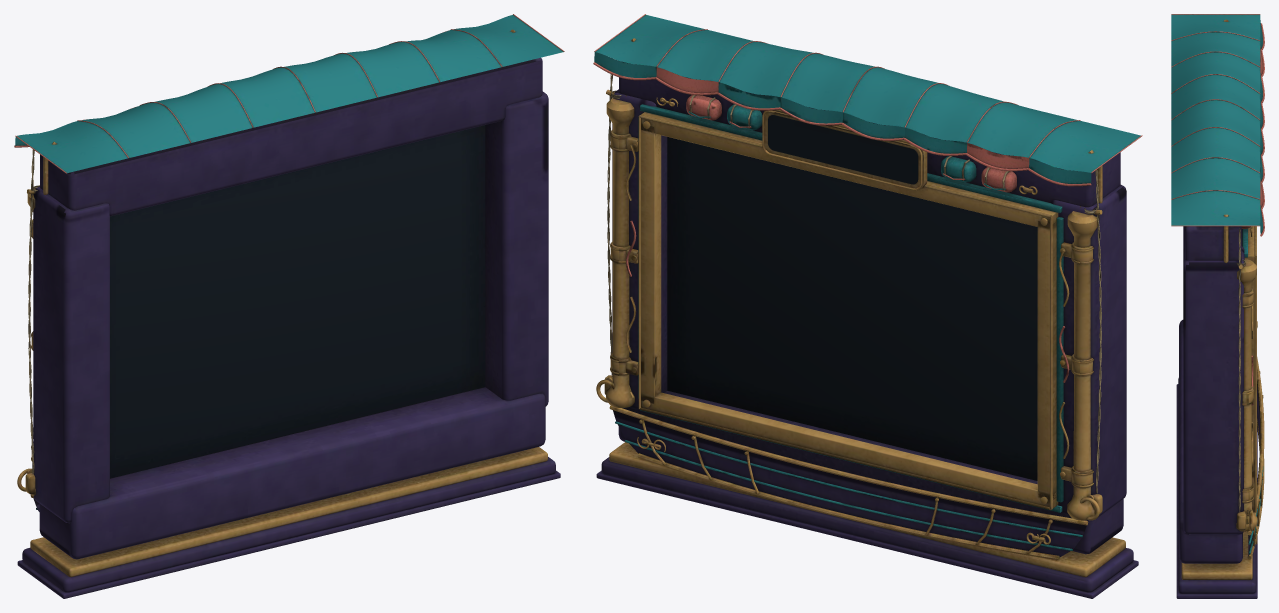
The picture shows the model from 3 angles, left to right: view 1: azimuth 30°, elevation 25°; view 2: azimuth 150°, elevation 25°; view 3: azimuth 270°, elevation 25°; orthographic projection. The views are drawn at different scales.
Visible parts, largest first — view 1: Violet_hull_enamel, Ink_recess, Teal_woven_canvas, Brushed_lock_brass, Coral_woven_binding, Natural_rope; view 2: Ink_recess, Violet_hull_enamel, Brushed_lock_brass, Teal_woven_canvas, Coral_woven_binding, Natural_rope; view 3: Violet_hull_enamel, Teal_woven_canvas, Brushed_lock_brass, Coral_woven_binding, Natural_rope.
Part boxes in pixels (x1=…): Violet_hull_enamel: x1=17, y1=57, x2=560, y2=598; Ink_recess: x1=110, y1=125, x2=485, y2=478; Teal_woven_canvas: x1=15, y1=15, x2=563, y2=509; Brushed_lock_brass: x1=17, y1=29, x2=547, y2=577; Coral_woven_binding: x1=14, y1=14, x2=564, y2=173; Natural_rope: x1=28, y1=149, x2=39, y2=473; Ink_recess: x1=667, y1=115, x2=1037, y2=480; Violet_hull_enamel: x1=596, y1=61, x2=1138, y2=598; Brushed_lock_brass: x1=596, y1=38, x2=1125, y2=577; Teal_woven_canvas: x1=594, y1=15, x2=1140, y2=550; Coral_woven_binding: x1=593, y1=14, x2=1142, y2=382; Natural_rope: x1=607, y1=74, x2=1101, y2=493; Violet_hull_enamel: x1=1176, y1=226, x2=1260, y2=598; Teal_woven_canvas: x1=1171, y1=14, x2=1263, y2=554; Brushed_lock_brass: x1=1181, y1=19, x2=1264, y2=579; Coral_woven_binding: x1=1171, y1=14, x2=1264, y2=405; Natural_rope: x1=1236, y1=228, x2=1245, y2=511.
Bounding box in the file's own units: 10.73 × 9.21 × 1.99.
Materials: 6 (6 with a texture image).
